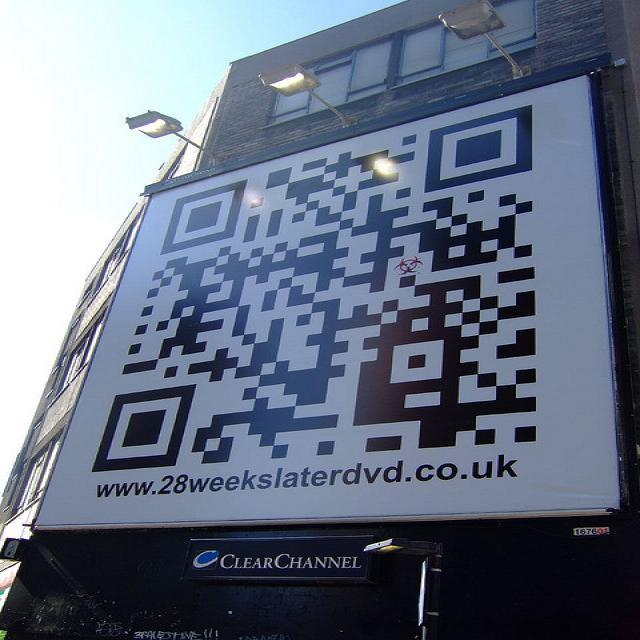qrcode: (92, 104, 537, 472)
